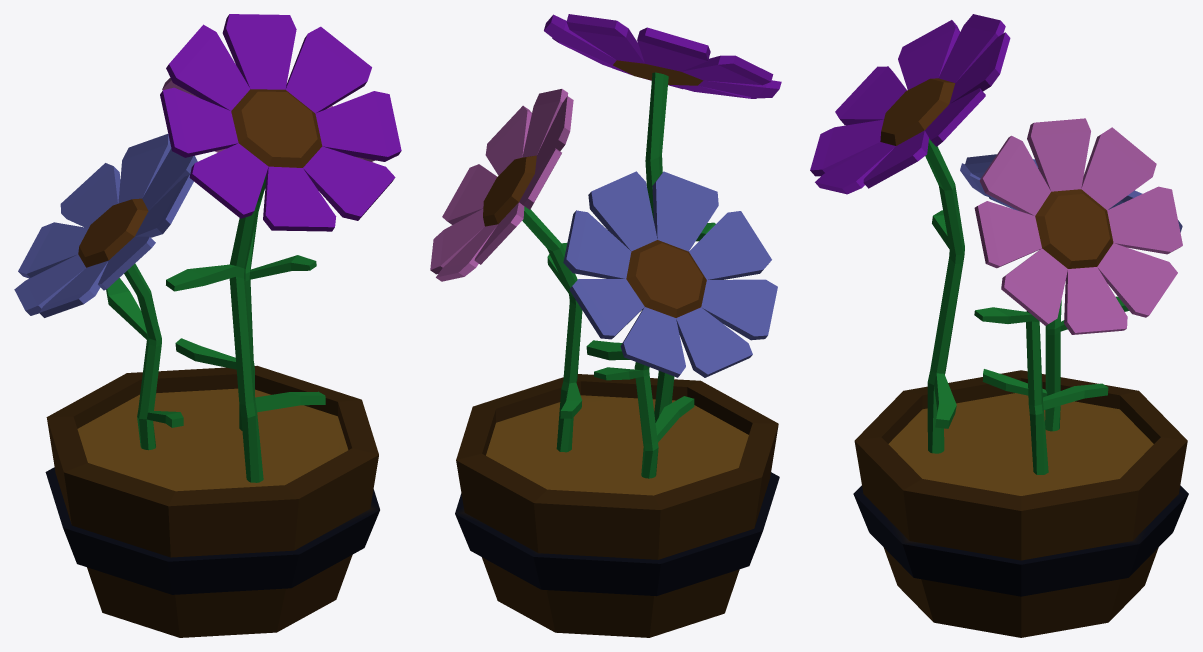
The model's file is flower-bucket-dark.fbx.
The picture shows the model from 3 angles, left to right: view 1: azimuth 30°, elevation 25°; view 2: azimuth 150°, elevation 25°; view 3: azimuth 270°, elevation 25°; orthographic projection. The views are drawn at different scales.
Parts seen in each view (by area): view 1: Flower bucket-dark; view 2: Flower bucket-dark; view 3: Flower bucket-dark.
Boxes of the visible parts, x1,y1,x2,y2 form: Flower bucket-dark: (14, 14, 401, 637); Flower bucket-dark: (430, 14, 781, 637); Flower bucket-dark: (810, 14, 1188, 637).
Size of the model in its own units: 61.97 by 103 by 63.46.
